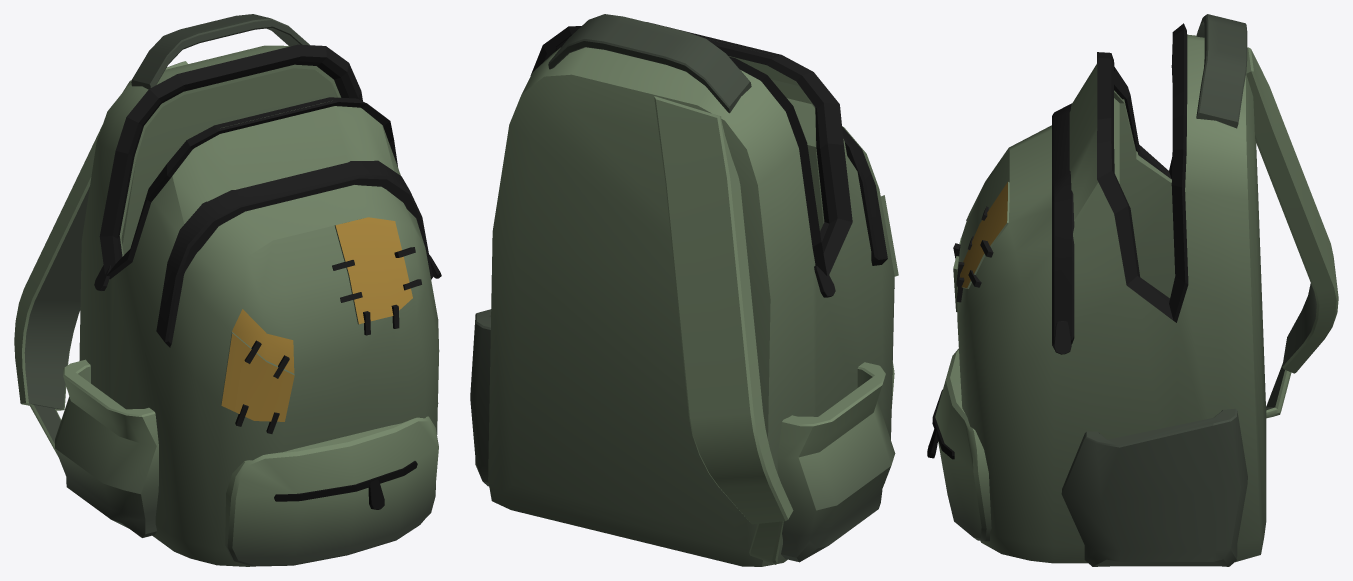
Rendered from SM_BackPack_21.fbx.
3 views of the same model, side by side, from view 1: azimuth 30°, elevation 25°; view 2: azimuth 150°, elevation 25°; view 3: azimuth 270°, elevation 25° (orthographic). The views are drawn at different scales.
Visible parts, largest first — view 1: SM_BackPack_21; view 2: SM_BackPack_21; view 3: SM_BackPack_21.
Part boxes in pixels (left/top/right/bottom): SM_BackPack_21: left=14, top=14, right=441, bottom=566; SM_BackPack_21: left=470, top=14, right=898, bottom=566; SM_BackPack_21: left=927, top=14, right=1338, bottom=566.
Size of the model in its own units: 96.54 by 127 by 101.
